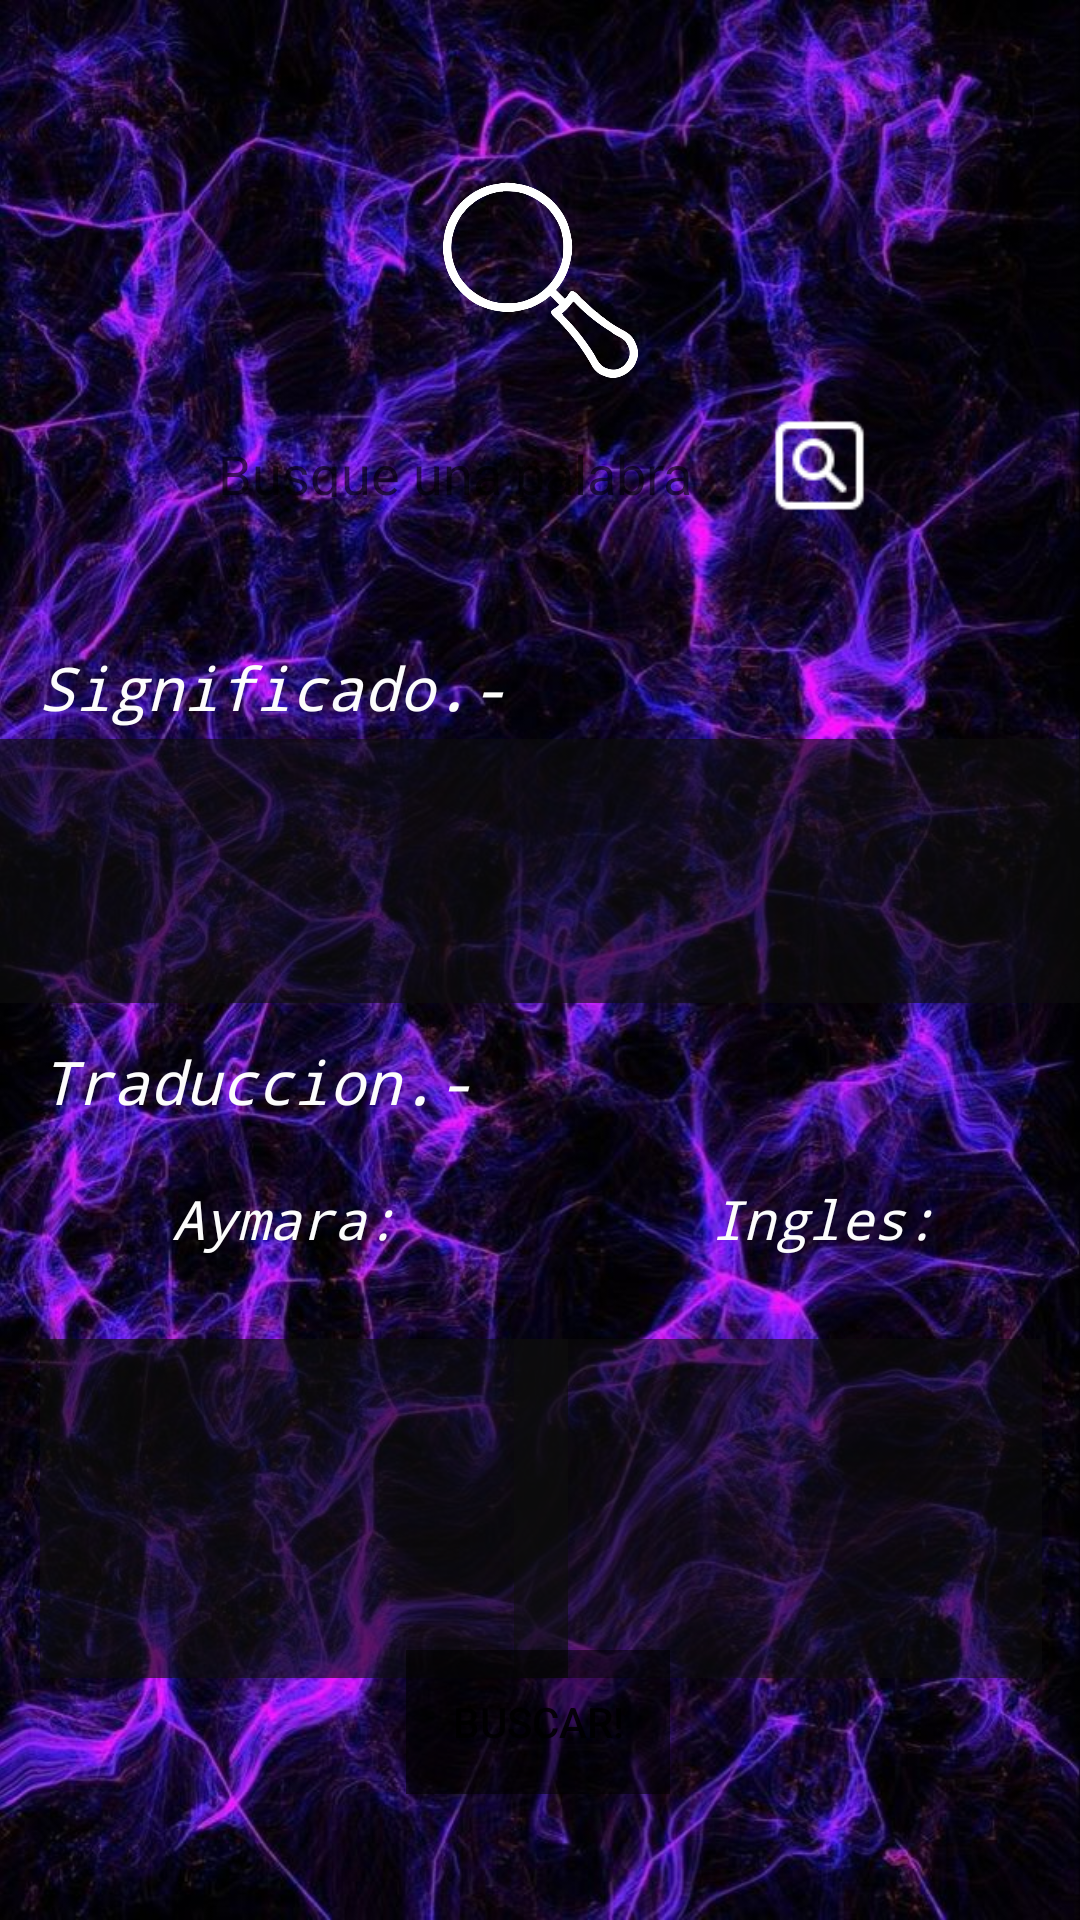

Point at icon controls on the screen. Image size 1080 × 1920, points as (x,y).
buscar: (819,465)
